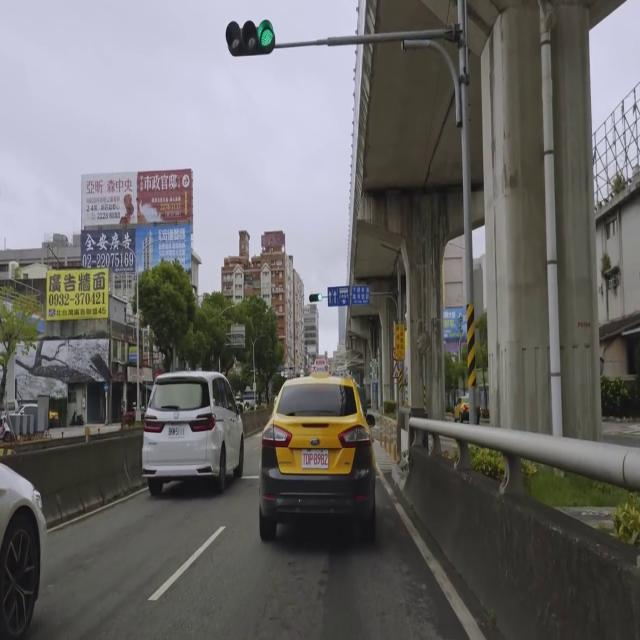green light: (225, 18, 275, 52), (308, 294, 322, 303)
